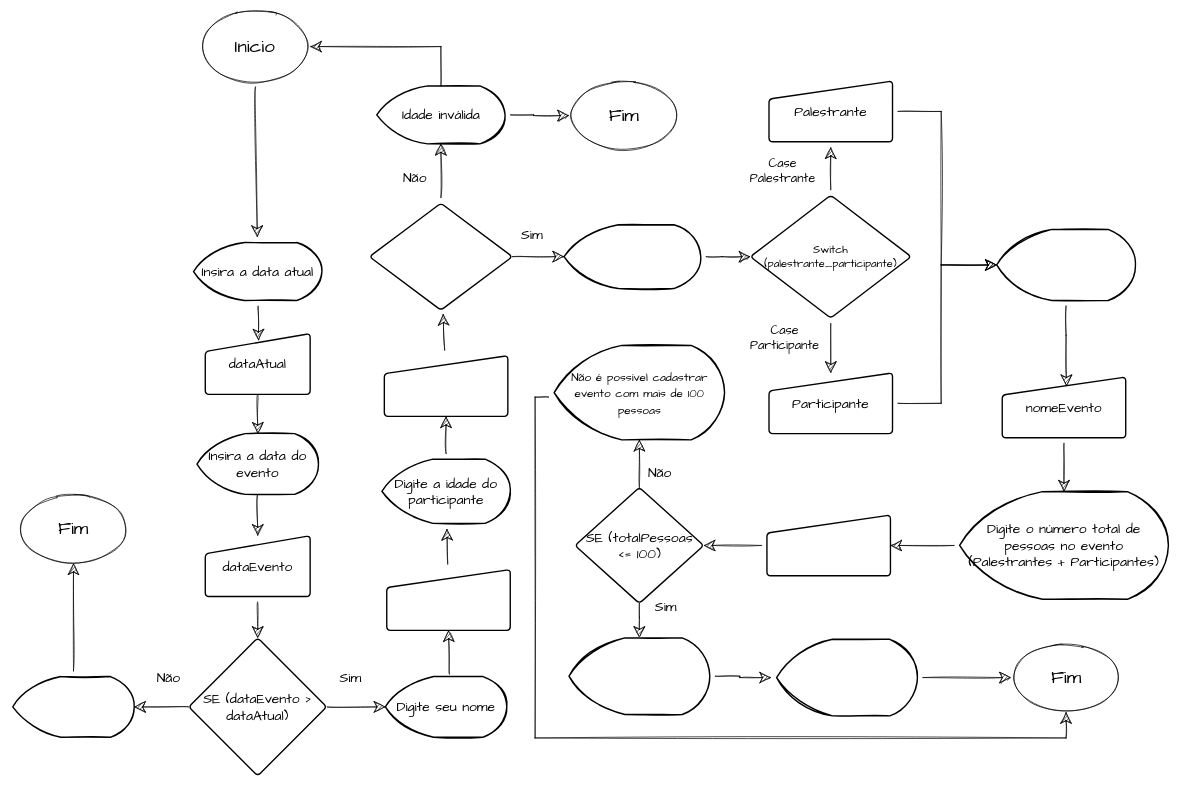
Image size: 1181x789. Some labels were removed from this diagram. Here are the shapes that lost their labels. From the top down, the box of each, then its label:
(368, 202, 513, 310): Se (Idade > 18)
(563, 224, 701, 289): Você é um palestrante ou participante?
(996, 228, 1136, 301): Digite o nome do evento
(383, 355, 508, 417): Idade
(766, 514, 891, 576): totalPessoas
(386, 569, 511, 631): nomeParticipante
(568, 637, 710, 715): Cadastro realizado com sucesso
(776, 638, 918, 716): Listar nome do usuário e nome do evento
(12, 676, 135, 738): Data Inválida
